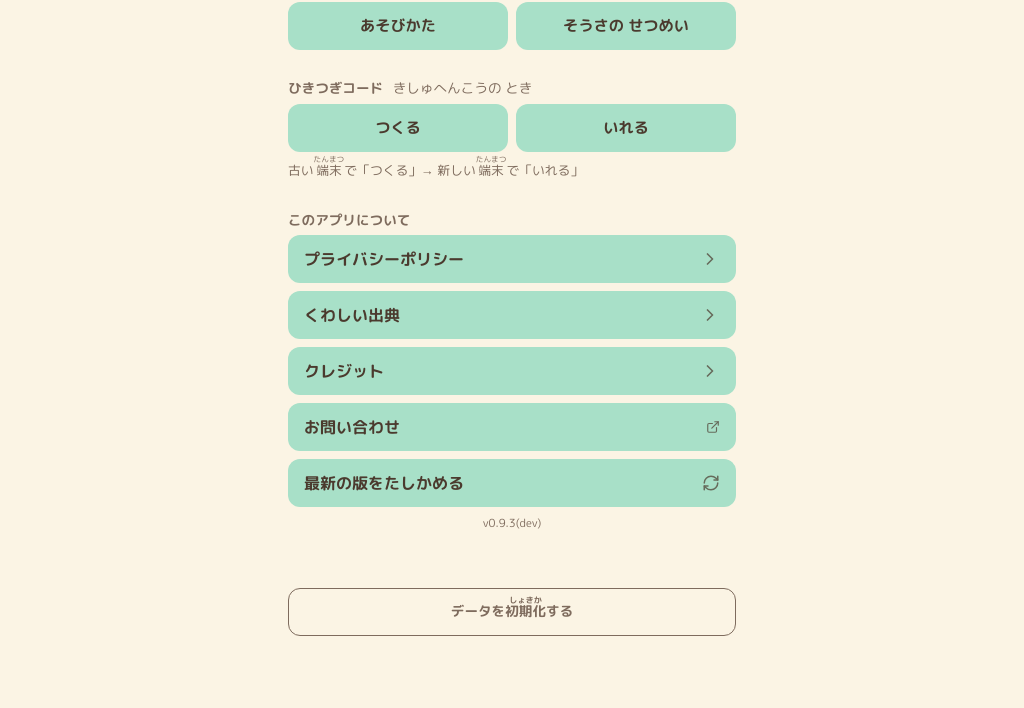
Test case: 全解放(デバッグ) › 設定画面: 隠しデバッグ項目 › 見出しの下の「初期化」の確認ダイアログの文言と動作は、変わらない
(page scrolled)
Click the button "データを 初期化 しょきか する". click: (512, 612)
box: [288,588,736,636]
(page scrolled)
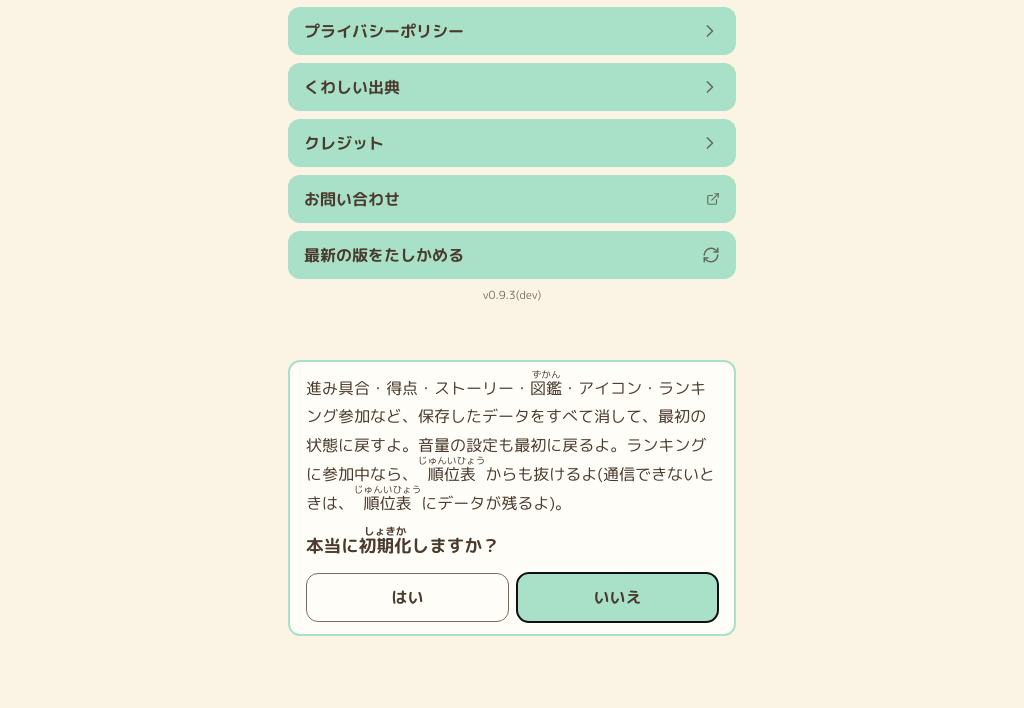
Expected: the dialog shows "本当に", [288,360,736,636]
